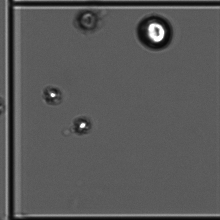Dead Cell: (71, 10, 105, 37)
Living Cell: (133, 10, 176, 53), (44, 79, 67, 107), (72, 112, 95, 137)
